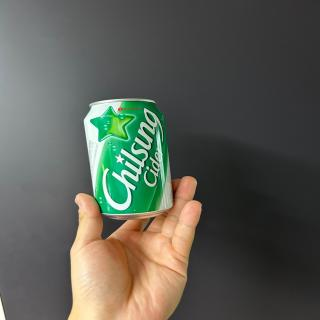cocacola: (83, 96, 177, 220)
